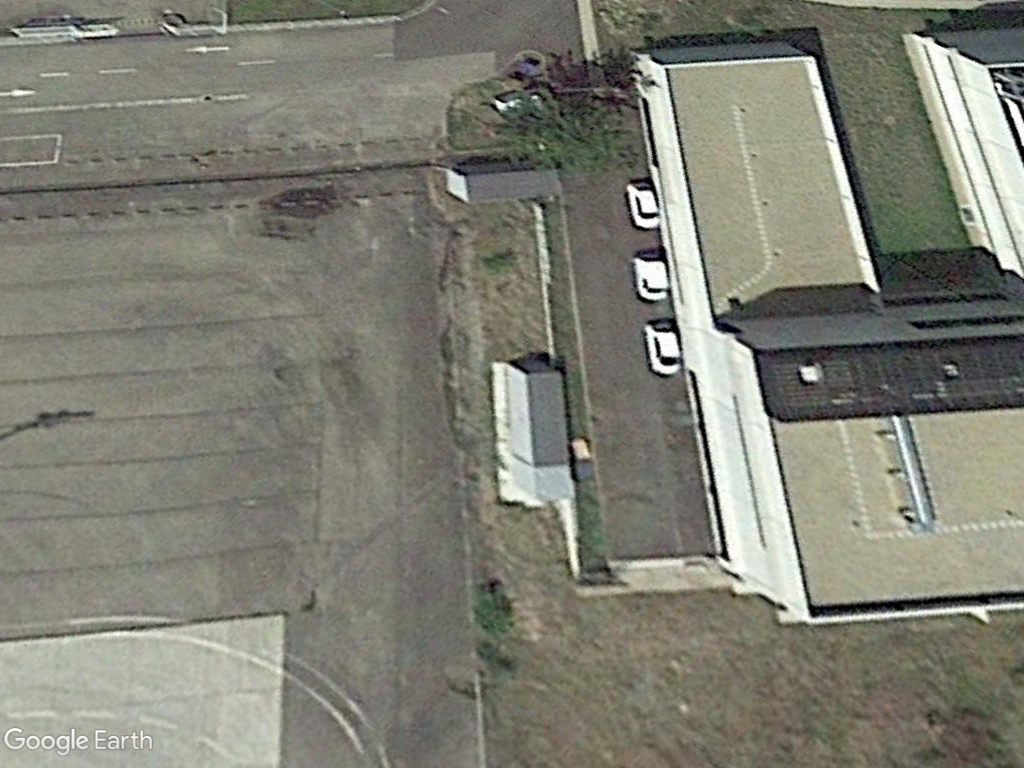car: (641, 315, 684, 376), (628, 249, 671, 305), (621, 176, 662, 232)
